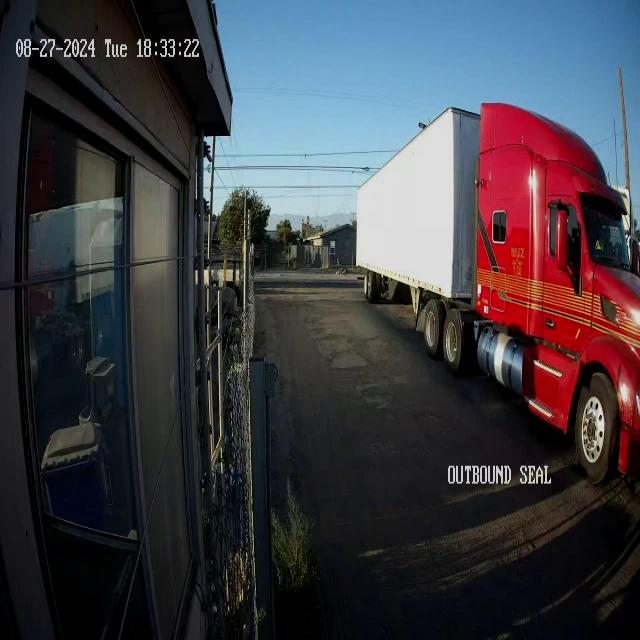CONTAINER: (356, 98, 481, 313)
